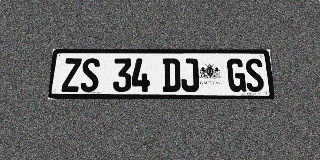3: (113, 58, 132, 92)
4: (132, 58, 150, 92)
D: (163, 58, 181, 92)
G: (227, 58, 246, 92)
J: (181, 58, 199, 92)
S: (244, 58, 265, 92), (80, 58, 100, 92)
Z: (61, 58, 82, 92)
